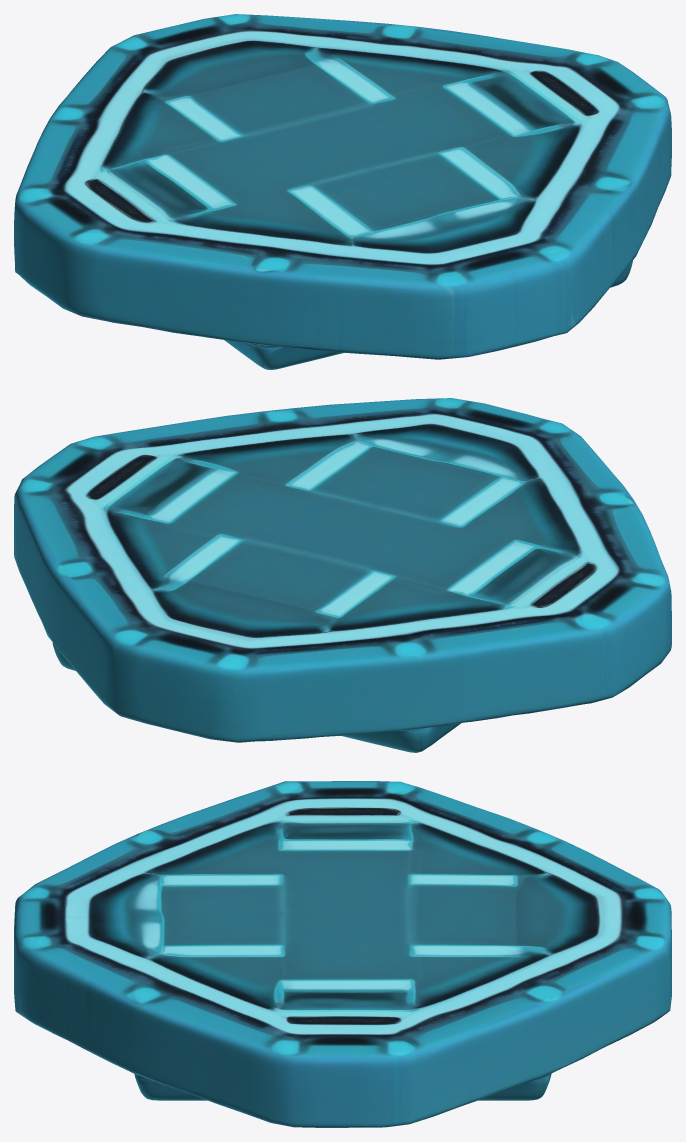
The model's file is An_L_shaped_corner_wa_0926195725_texture.fbx.
3 renders of one model, top to bottom at view 1: azimuth 30°, elevation 25°; view 2: azimuth 150°, elevation 25°; view 3: azimuth 270°, elevation 25°, orthographic. The views are drawn at different scales.
Visible parts, largest first — view 1: Mesh0; view 2: Mesh0; view 3: Mesh0.
Part boxes in pixels (x1=…): Mesh0: x1=14, y1=14, x2=671, y2=369; Mesh0: x1=14, y1=398, x2=671, y2=752; Mesh0: x1=14, y1=781, x2=671, y2=1127.
Bounding box in the file's own units: 191 × 33.57 × 189.
Materials: 1 (1 with a texture image).
